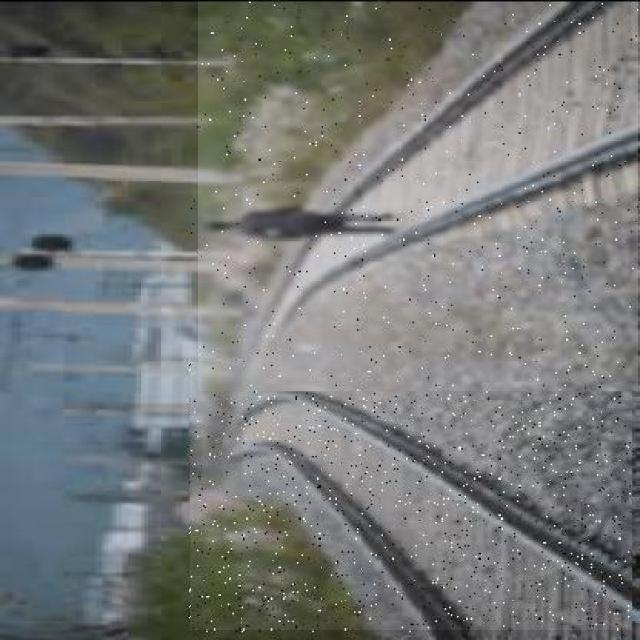rail: (199, 1, 639, 392), (191, 364, 633, 631)
